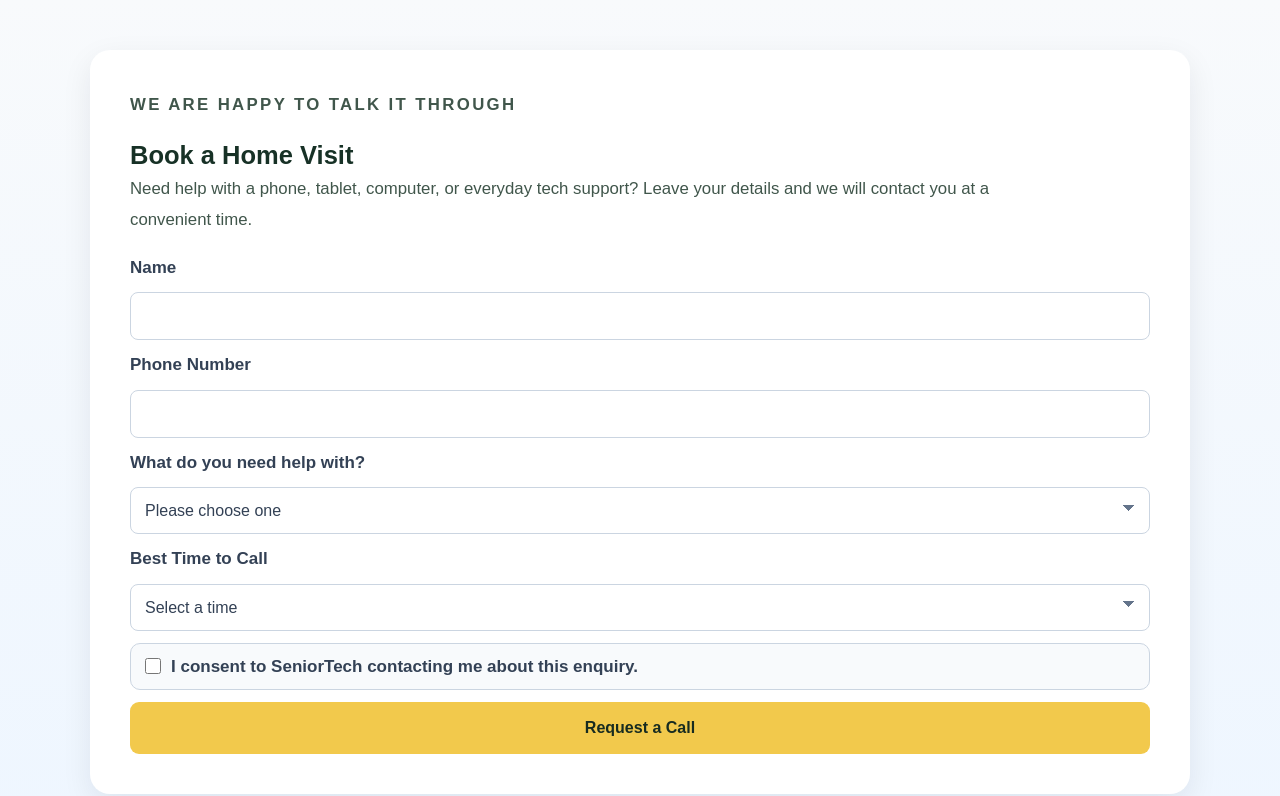
requires contact consent before submitting the form
Type "Jane" into the field labelled "Name".
click(640, 316); type("Jane")  # box [130,292,1150,340]
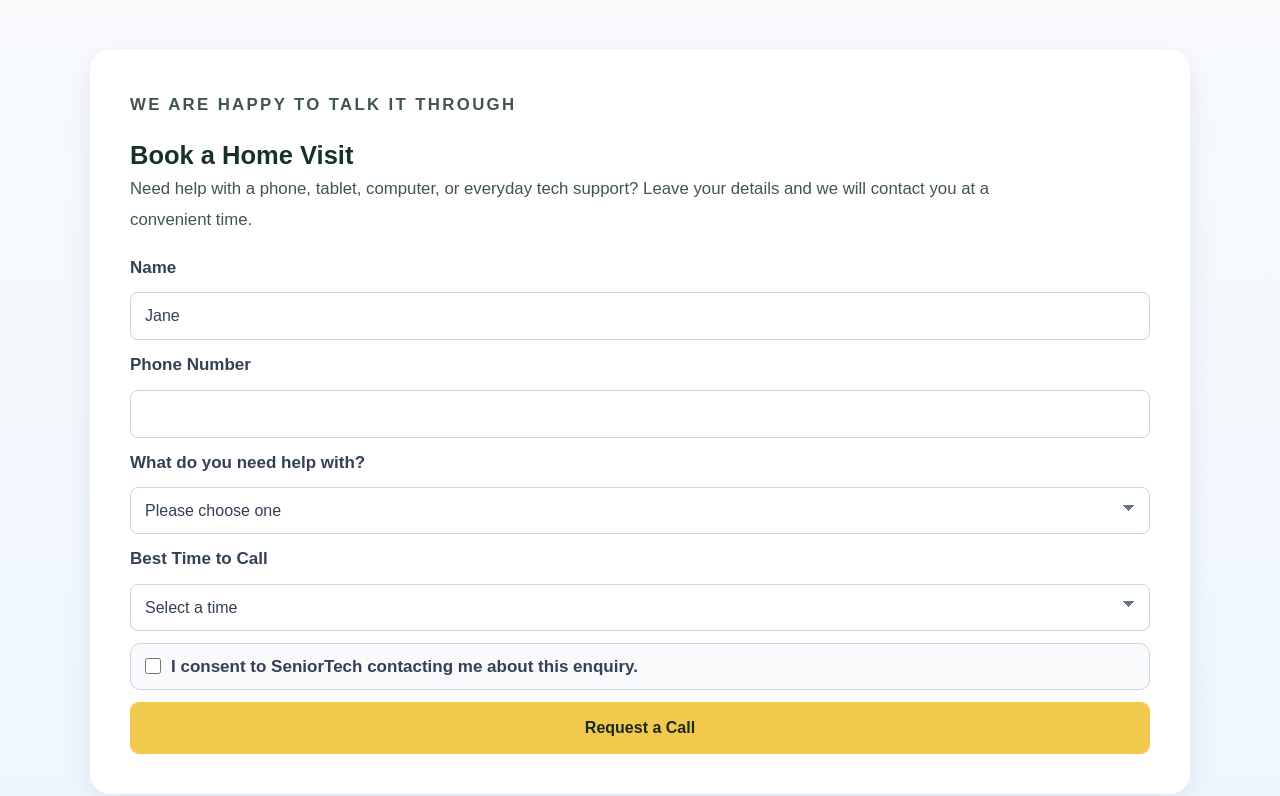
Click the button "Request a Call".
click(640, 728)  # box [130,702,1150,754]
(page scrolled)
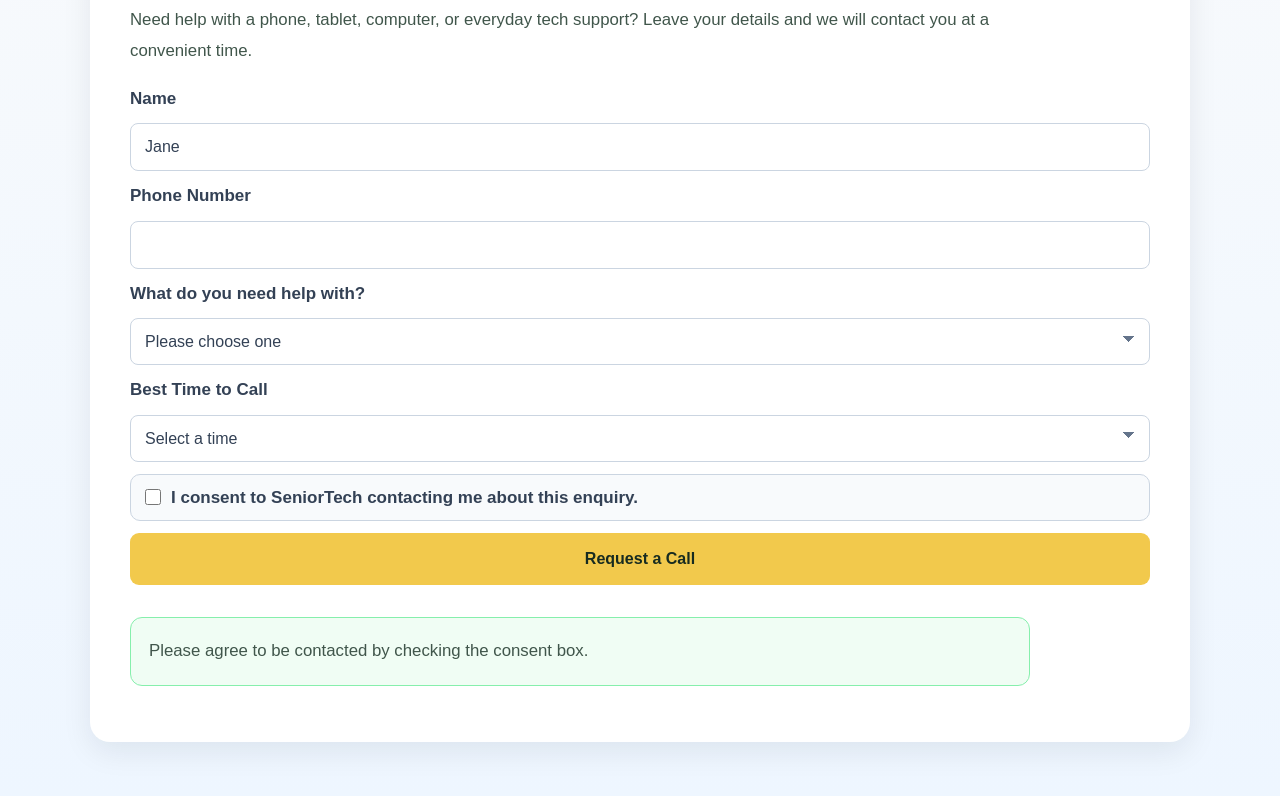
expect the text "Please agree to be contacted by checking the consent box." is shown: met, box [130,618,1030,686]
